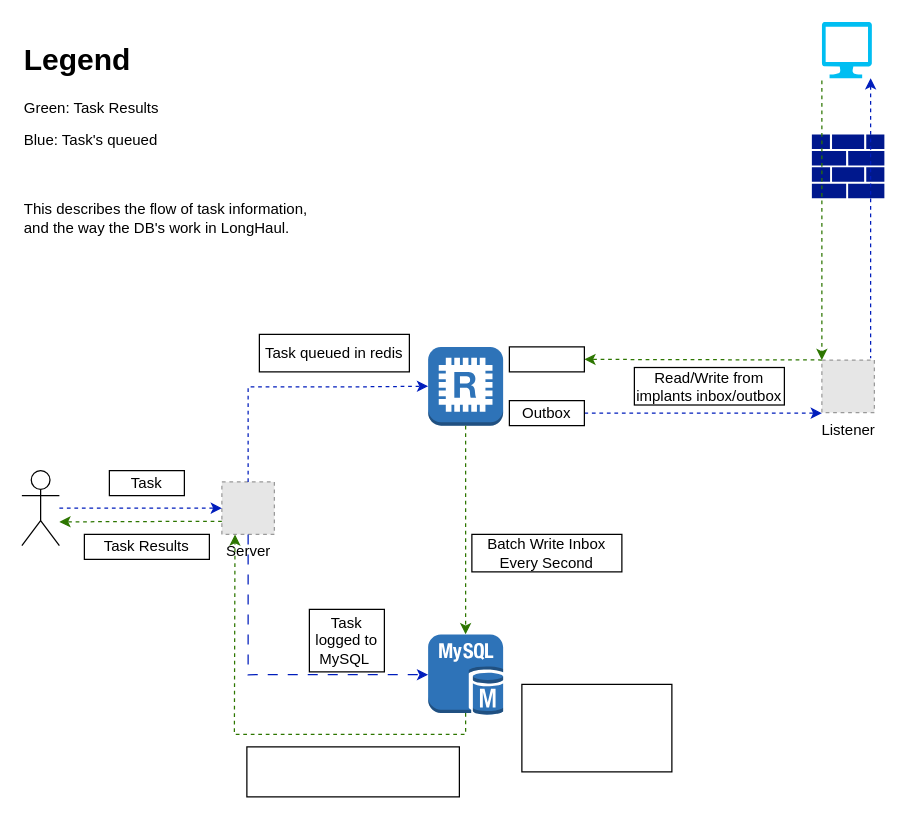
This 906x819 diagram has some shape labels left out. Grey dashed boxes stand in for pictures. Each missing label, with the centre of its shape:
"Actor" goes at point (40, 507).
"Inbox" goes at point (546, 359).
"MySQL: A Task/Response log for persistent task storage" goes at point (596, 727).
"Task Results (pulled from MySQL)" goes at point (352, 771).
